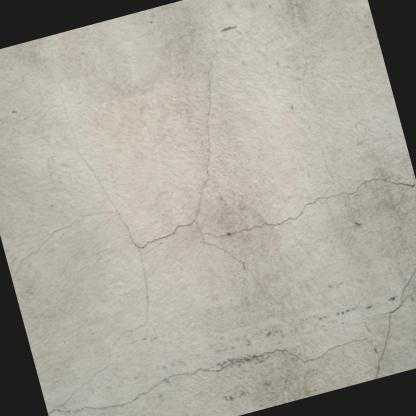crack: (46, 334, 367, 416), (205, 158, 416, 240), (372, 255, 416, 379)
